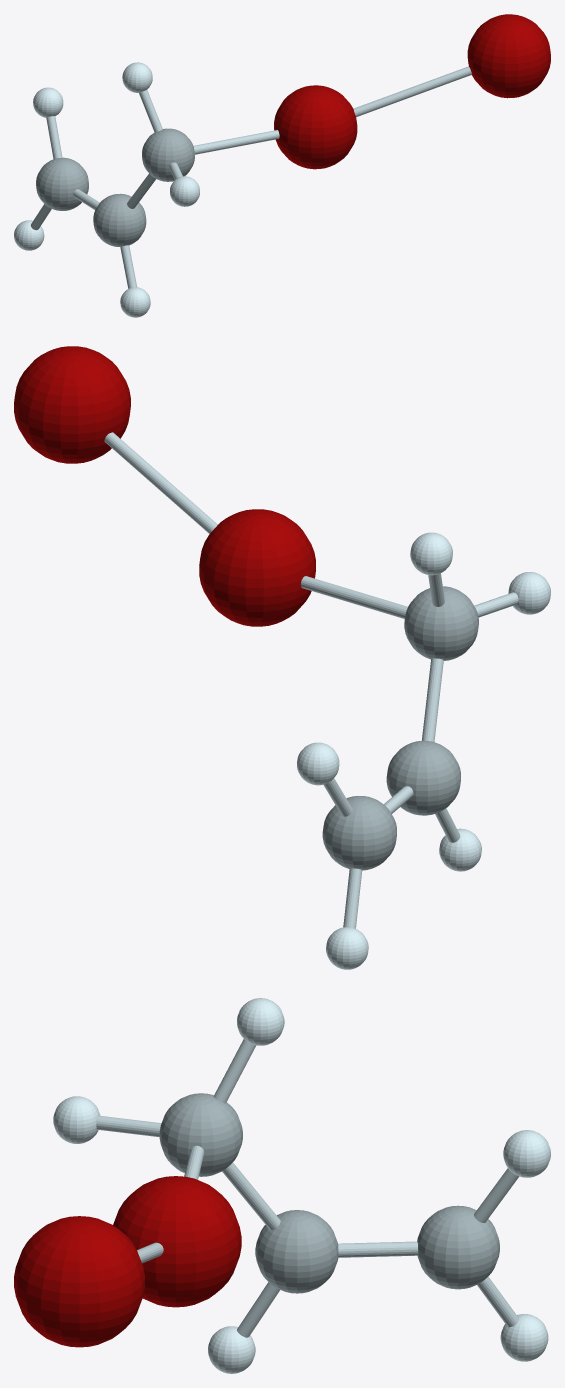
Rendered from irc_step_110.glb.
3 views of the same model, one above another, from view 1: azimuth 30°, elevation 25°; view 2: azimuth 150°, elevation 25°; view 3: azimuth 270°, elevation 25° (orthographic). The views are drawn at different scales.
Visible parts, largest first — view 1: Renderer Node; view 2: Renderer Node; view 3: Renderer Node.
Boxes of the visible parts, x1,y1,x2,y2 form: Renderer Node: (14,14,550,317); Renderer Node: (14,346,550,969); Renderer Node: (14,998,550,1373).
Bounding box in the file's own units: 5.86 × 3.67 × 4.49.
